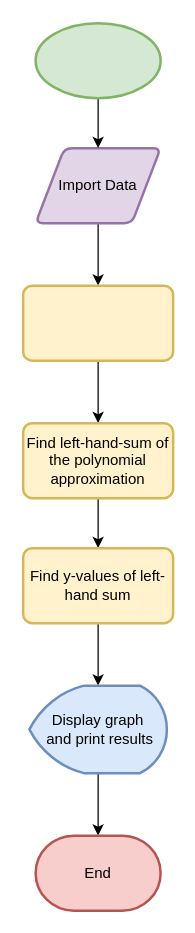
Some shapes in this 195 by 933 pixel diagram are drawn without their labels. The shapes that lost their labels are listed below. From the top down, each one's centre as x and y in pixels, then its label:
[97,60]: Start
[97,322]: Create Rectangles based off of data
